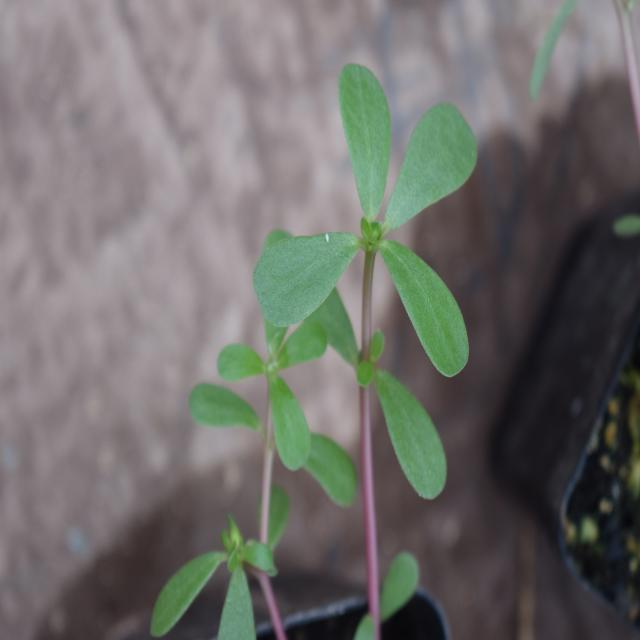purslane: (168, 64, 497, 630)
